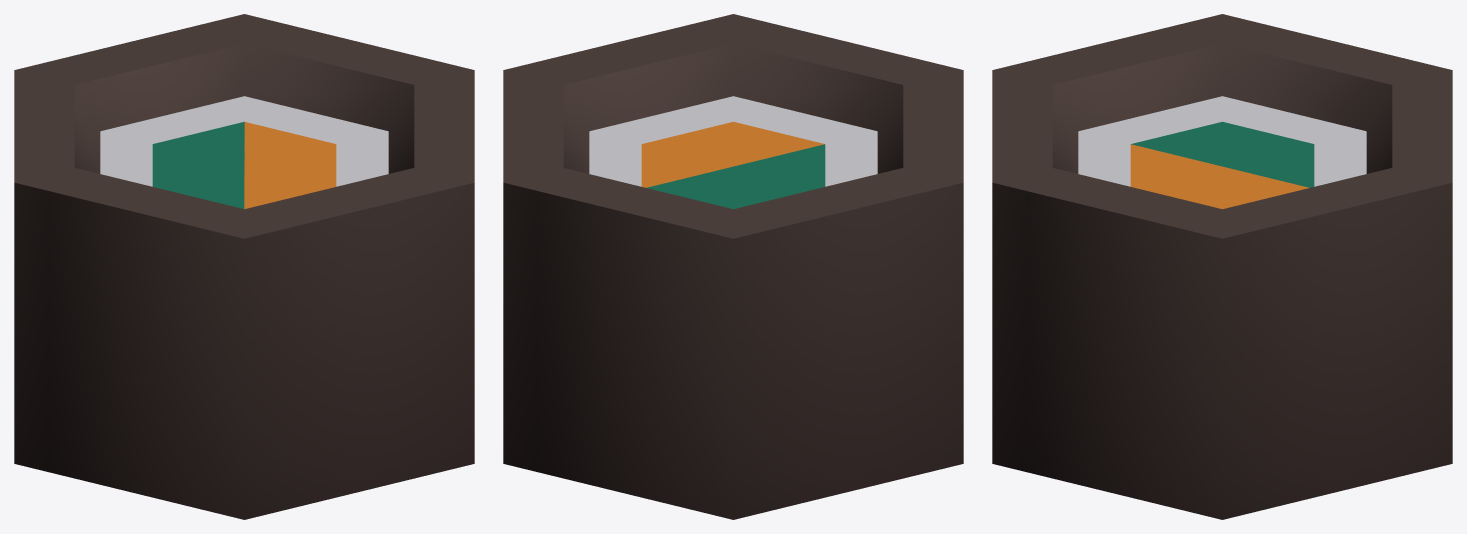
File: maki-vegetable.glb
3 views of the same model, side by side, from view 1: azimuth 30°, elevation 25°; view 2: azimuth 150°, elevation 25°; view 3: azimuth 270°, elevation 25° (orthographic).
Visible parts, largest first — view 1: maki-vegetable; view 2: maki-vegetable; view 3: maki-vegetable.
Boxes of the visible parts, x1,y1,x2,y2 form: maki-vegetable: (14,14,474,519); maki-vegetable: (503,14,963,519); maki-vegetable: (992,14,1452,519).
Size of the model in its own units: 0.12 by 0.07 by 0.1039.
